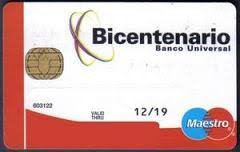tarjeta: (2, 2, 238, 151)
